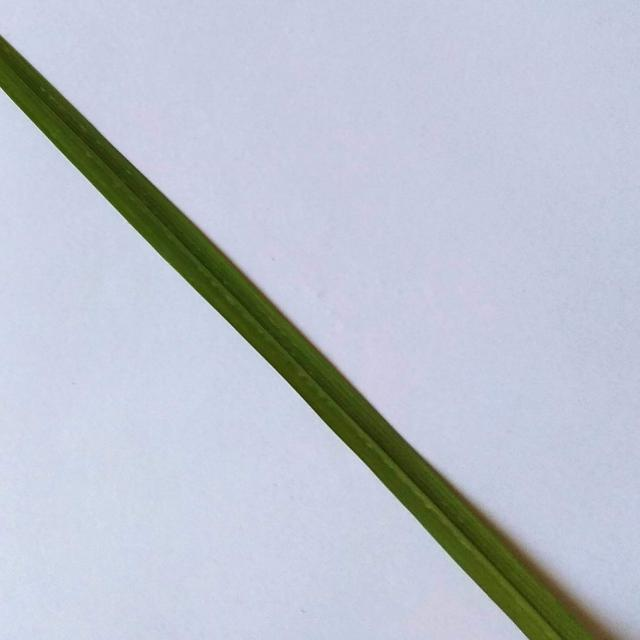Rice_Healthy: (0, 37, 619, 640)
